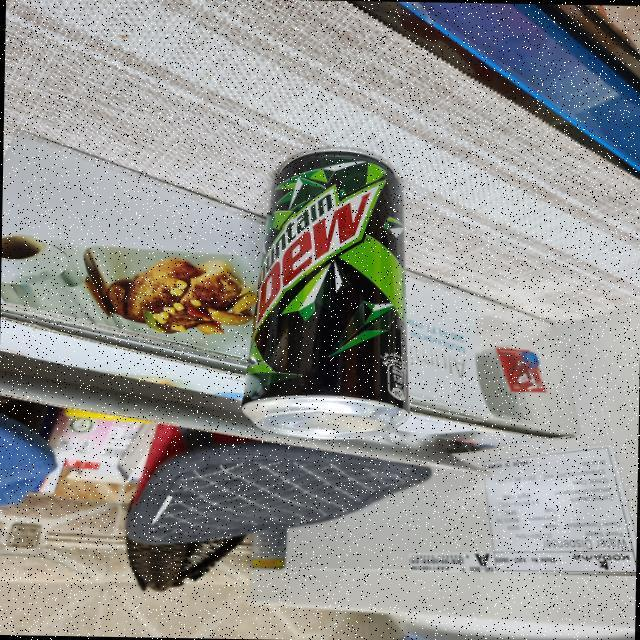can: (240, 148, 418, 441)
